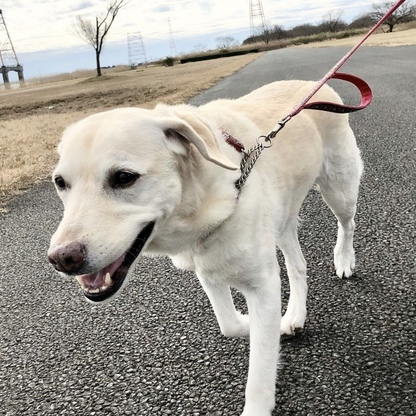labrado: (45, 75, 374, 416)
